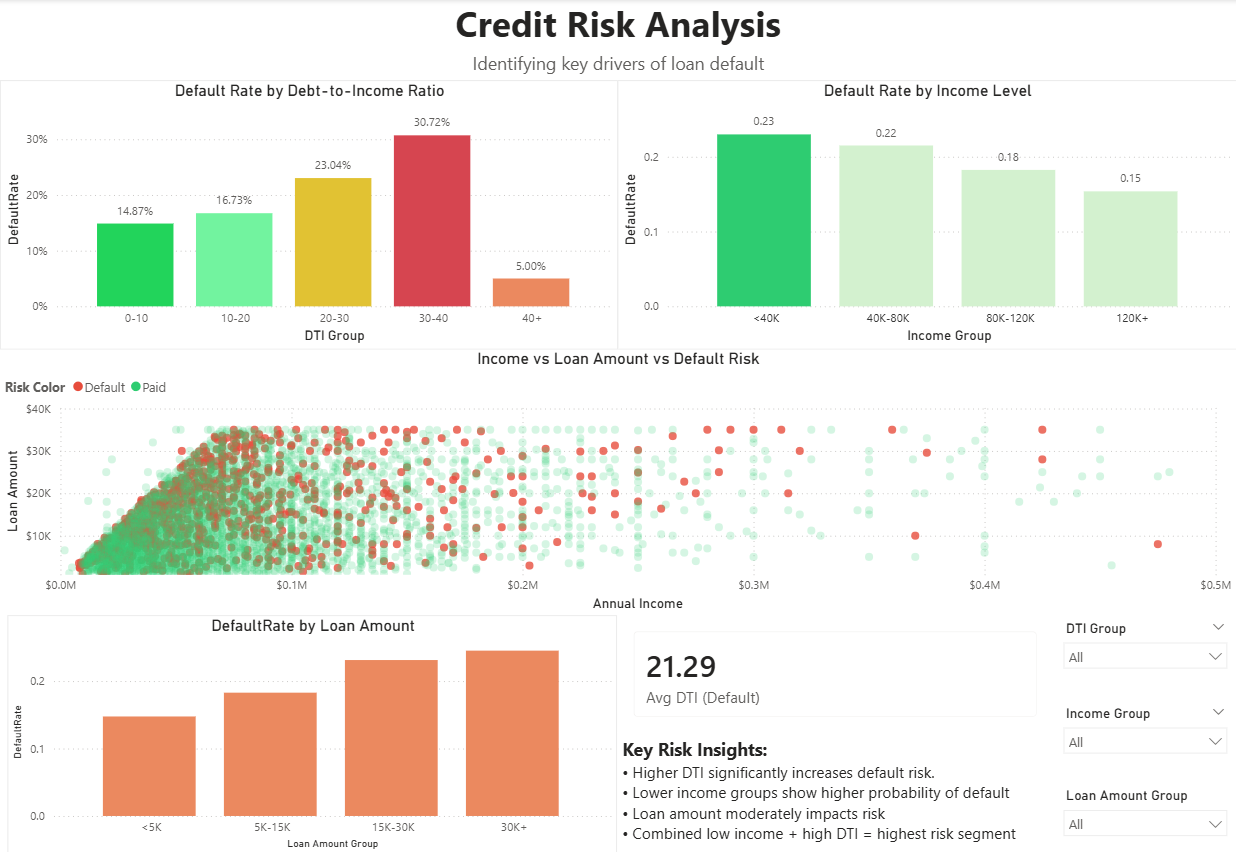

The dashboard page shown, as its layout file describes it:
{"tool":"powerbi","page":{"name":"Page 2","canvas":[1300,900],"ordinal":1},"visuals":[{"type":"clusteredColumnChart","title":"Default Rate by Debt-to-Income Ratio","fields":{"Category":["loan_analysis_output.DTI Group"],"Y":["loan_analysis_output.DefaultRate"]},"box":[0,85,649.4,282.9],"z":0},{"type":"clusteredColumnChart","title":"Default Rate by Income Level","fields":{"Y":["loan_analysis_output.DefaultRate"],"Category":["loan_analysis_output.Income Group"]},"box":[649.4,85,650.8,282.9],"z":1000},{"type":"clusteredColumnChart","title":"DefaultRate by Loan Amount","fields":{"Y":["loan_analysis_output.DefaultRate"],"Category":["loan_analysis_output.Loan Amount Group"]},"box":[8.4,648.1,641.1,252.3],"z":2000},{"type":"scatterChart","title":"Income vs Loan Amount vs Default Risk","fields":{"X":["loan_analysis_output.annual_inc"],"Y":["loan_analysis_output.loan_amnt"],"Series":["loan_analysis_output.Risk Color"]},"box":[0,367.9,1300.3,280.1],"z":3000},{"type":"textbox","box":[649.4,772.1,458.5,128.2],"z":4000},{"type":"textbox","title":"Credit Risk Analysis","box":[0,0,1300.3,85],"z":4001},{"type":"cardVisual","fields":{"Data":["loan_analysis_output.Avg DTI (Default)"]},"box":[649.4,648.1,458.5,124],"z":4002},{"type":"slicer","fields":{"Values":["loan_analysis_output.DTI Group"]},"box":[1108,648.1,192.3,89.2],"z":4003},{"type":"slicer","fields":{"Values":["loan_analysis_output.Income Group"]},"box":[1108,737.2,192.3,86.4],"z":4004},{"type":"slicer","fields":{"Values":["loan_analysis_output.Loan Amount Group"]},"box":[1108,823.7,192.3,76.7],"z":4005}]}

Visuals, with their boxes in screenshot pixels (x1, y1, x2, y2), scaled from the page's 1300x900 canvas onto the 1236x852 screenshot:
"Default Rate by Debt-to-Income Ratio" clusteredColumnChart: bbox=(0, 80, 617, 348)
"Default Rate by Income Level" clusteredColumnChart: bbox=(617, 80, 1235, 348)
"DefaultRate by Loan Amount" clusteredColumnChart: bbox=(8, 614, 618, 851)
"Income vs Loan Amount vs Default Risk" scatterChart: bbox=(0, 348, 1235, 613)
textbox: bbox=(617, 731, 1053, 851)
"Credit Risk Analysis" textbox: bbox=(0, 0, 1235, 80)
cardVisual - loan_analysis_output.Avg DTI (Default): bbox=(617, 614, 1053, 731)
slicer - loan_analysis_output.DTI Group: bbox=(1053, 614, 1235, 698)
slicer - loan_analysis_output.Income Group: bbox=(1053, 698, 1235, 780)
slicer - loan_analysis_output.Loan Amount Group: bbox=(1053, 780, 1235, 851)
